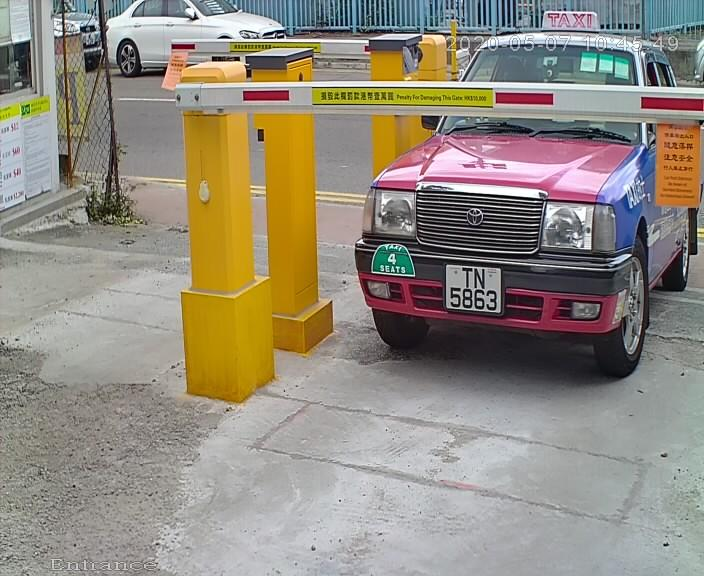Car: (347, 4, 704, 383)
License Plate: (441, 260, 513, 319)
